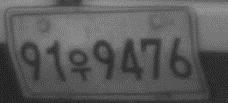1: (45, 37, 68, 83)
4: (118, 38, 144, 81)
6: (168, 36, 193, 81)
7: (139, 36, 162, 82)
9: (91, 38, 115, 77), (20, 41, 42, 82)
우: (68, 47, 91, 83)
